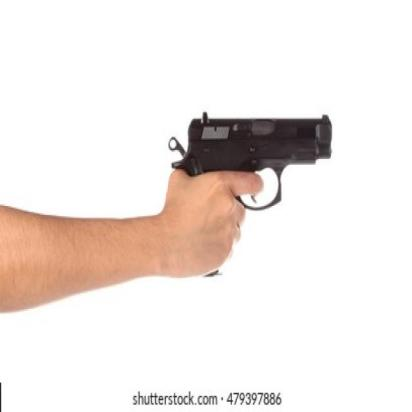Gun: (166, 109, 335, 281)
